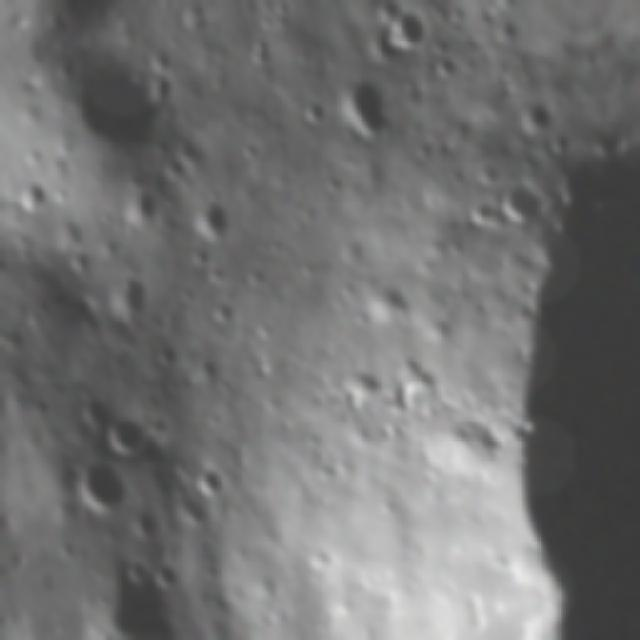crater: (50, 44, 181, 168), (84, 569, 181, 640), (334, 68, 397, 154), (63, 451, 139, 522), (100, 261, 158, 328), (377, 3, 438, 60), (184, 191, 241, 249), (362, 274, 418, 328), (494, 174, 548, 229), (103, 410, 155, 465), (188, 459, 238, 506), (514, 96, 564, 142), (117, 182, 166, 228), (10, 172, 52, 218), (244, 33, 282, 76), (76, 391, 116, 431), (460, 195, 502, 232), (118, 554, 156, 592), (469, 156, 508, 192), (297, 92, 331, 133), (142, 72, 178, 110), (152, 558, 188, 594), (428, 48, 461, 84), (152, 338, 186, 370), (369, 0, 409, 26)
